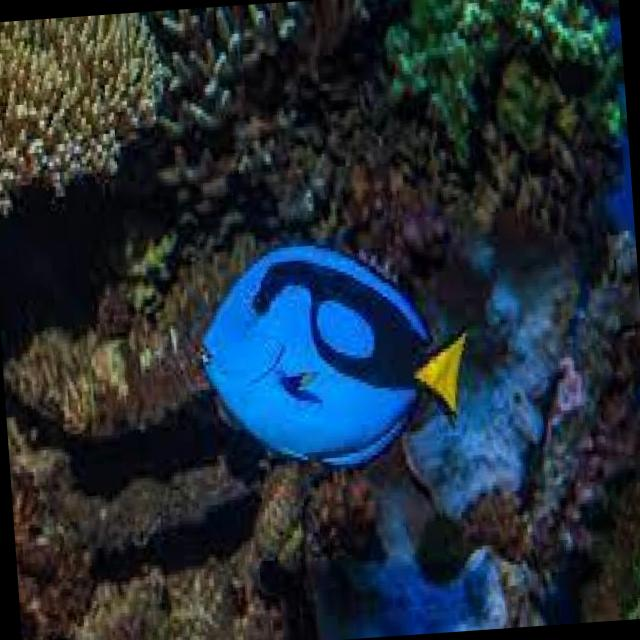TangFish: (188, 230, 473, 473)
